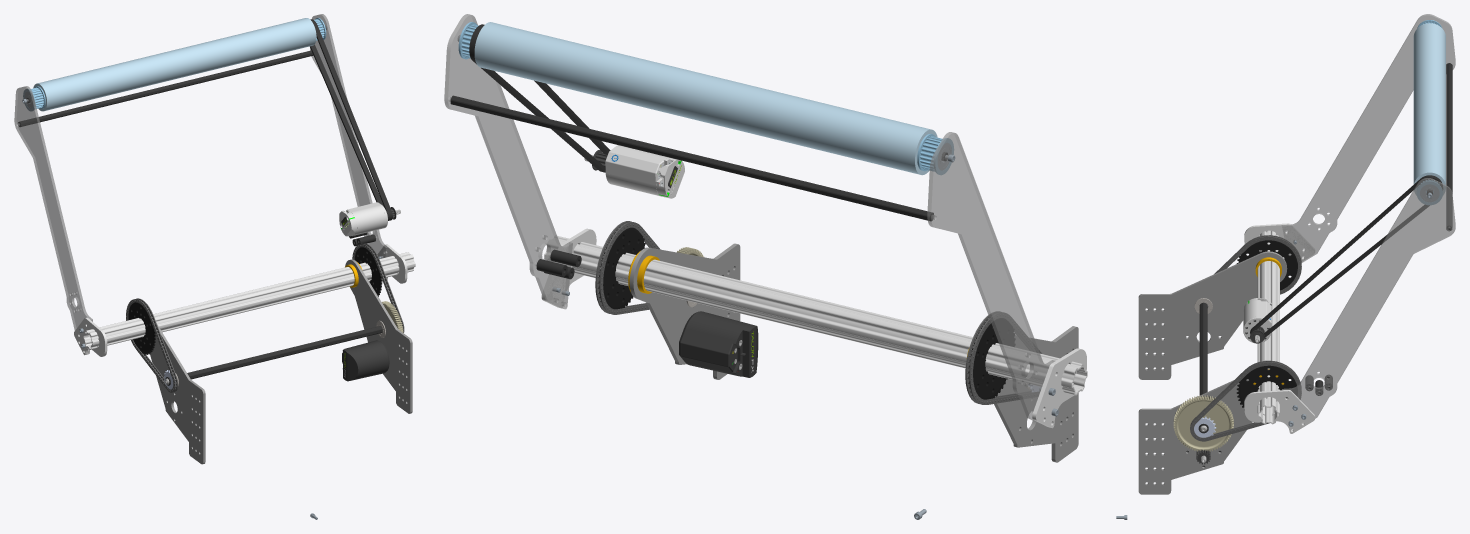
The picture shows the model from 3 angles, left to right: view 1: azimuth 30°, elevation 25°; view 2: azimuth 150°, elevation 25°; view 3: azimuth 270°, elevation 25°; orthographic projection. The views are drawn at different scales.
Visible parts, largest first — view 1: Part 5, Part 3 (×2), Part 2 (×2), MAXSpline Shaft 26", Shaft (×2), 165t 5mm Belt, Kraken X60 Brushless Motor, 72 links #25 chain (×2), 48T #25 Plate Sprocket MAXSpline (REV-21-1964) (×2), WCP-0941, Part 4 (×2); view 2: Part 5, Part 3 (×2), MAXSpline Shaft 26", Part 2 (×2), Shaft, Kraken X60 Brushless Motor, 48T #25 Plate Sprocket MAXSpline (REV-21-1964) (×2), 72 links #25 chain (×2), Part 4 (×2), WCP-0941, 165t 5mm Belt, TTB-R-001; view 3: Part 3 (×2), Part 2 (×2), Part 5, Part 4 (×2), MAXSpline Shaft 26", 48T #25 Plate Sprocket MAXSpline (REV-21-1964) (×2), 165t 5mm Belt, Shaft (×2), 72t 20dp Aluminum 1/2" Hex Bore Pocketed Gear (WCP-0123), 72 links #25 chain (×2), WCP-0941.
Boxes of the visible parts, x1,y1,x2,y2 form: Part 5: (33,18,316,111); Part 3 (×2): (14,14,388,354); Part 2 (×2): (150,259,412,464); MAXSpline Shaft 26": (83,252,415,349); Shaft (×2): (18,50,382,385); 165t 5mm Belt: (310,19,392,220); Kraken X60 Brushless Motor: (342,340,389,381); 72 links #25 chain (×2): (126,243,404,392); 48T #25 Plate Sprocket MAXSpline (REV-21-1964) (×2): (128,247,382,354); WCP-0941: (341,202,400,236); Part 4 (×2): (74,244,407,356); Part 5: (474,22,937,175); Part 3 (×2): (444,14,1055,426); MAXSpline Shaft 26": (544,235,1087,395); Part 2 (×2): (629,243,1078,462); Shaft: (450,95,933,221); Kraken X60 Brushless Motor: (679,311,758,377); 48T #25 Plate Sprocket MAXSpline (REV-21-1964) (×2): (598,227,1015,399); 72 links #25 chain (×2): (595,221,1041,404); Part 4 (×2): (541,228,1086,428); WCP-0941: (584,145,684,198); 165t 5mm Belt: (469,24,610,172); TTB-R-001: (917,134,953,174); Part 3 (×2): (1282,14,1455,430); Part 2 (×2): (1138,251,1287,494); Part 5: (1413,23,1445,195); Part 4 (×2): (1244,223,1315,433); MAXSpline Shaft 26": (1257,230,1279,424); 48T #25 Plate Sprocket MAXSpline (REV-21-1964) (×2): (1236,236,1297,407); 165t 5mm Belt: (1250,175,1442,337); Shaft (×2): (1198,63,1452,433); 72t 20dp Aluminum 1/2" Hex Bore Pocketed Gear (WCP-0123): (1173,395,1233,451); 72 links #25 chain (×2): (1190,235,1301,441); WCP-0941: (1243,300,1271,342).
Size of the model in its own units: 0.6604 by 0.7245 by 0.5297.
